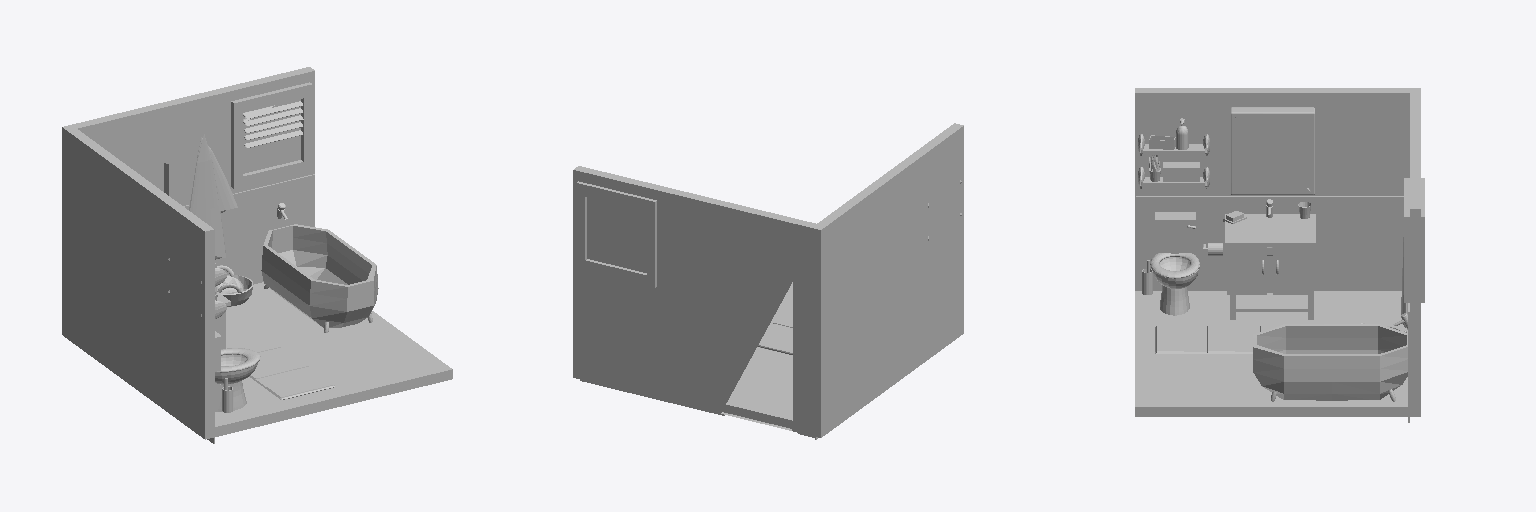
File: BathroomMesh.obj
The picture shows the model from 3 angles: view 1: azimuth 30°, elevation 25°; view 2: azimuth 150°, elevation 25°; view 3: azimuth 270°, elevation 25°; orthographic projection.
Visible parts, largest first — view 1: pCube53, pCube21, pCube50, pCube56, pCone4, pCube16, pCube17, pCube45, pCube44, pTorus4; view 2: pCube53, pCube56; view 3: pCube53, pCube49, pCube21, pCube37, pCube16, pCube9, pCube8, pCube17, pCube56, pCube26, pCube44, pCube45.
Boxes of the visible parts, x1=… form: pCube53: x1=62, y1=67, x2=452, y2=439; pCube21: x1=261, y1=224, x2=378, y2=327; pCube50: x1=183, y1=174, x2=314, y2=284; pCube56: x1=231, y1=82, x2=312, y2=188; pCone4: x1=189, y1=134, x2=237, y2=259; pCube16: x1=215, y1=331, x2=260, y2=411; pCube17: x1=249, y1=347, x2=334, y2=399; pCube45: x1=267, y1=375, x2=334, y2=398; pCube44: x1=250, y1=356, x2=308, y2=379; pTorus4: x1=217, y1=265, x2=252, y2=306; pCube53: x1=573, y1=123, x2=963, y2=437; pCube56: x1=577, y1=181, x2=656, y2=287; pCube53: x1=1135, y1=88, x2=1420, y2=416; pCube49: x1=1136, y1=196, x2=1403, y2=290; pCube21: x1=1253, y1=324, x2=1407, y2=400; pCube37: x1=1231, y1=107, x2=1314, y2=194; pCube16: x1=1150, y1=212, x2=1199, y2=315; pCube9: x1=1236, y1=247, x2=1307, y2=294; pCube8: x1=1225, y1=214, x2=1315, y2=246; pCube17: x1=1155, y1=326, x2=1259, y2=353; pCube56: x1=1404, y1=178, x2=1424, y2=302; pCube26: x1=1236, y1=293, x2=1307, y2=311; pCube44: x1=1207, y1=326, x2=1234, y2=352; pCube45: x1=1156, y1=326, x2=1183, y2=352.
Bounding box in the file's own units: 18.22 × 15.02 × 18.38.